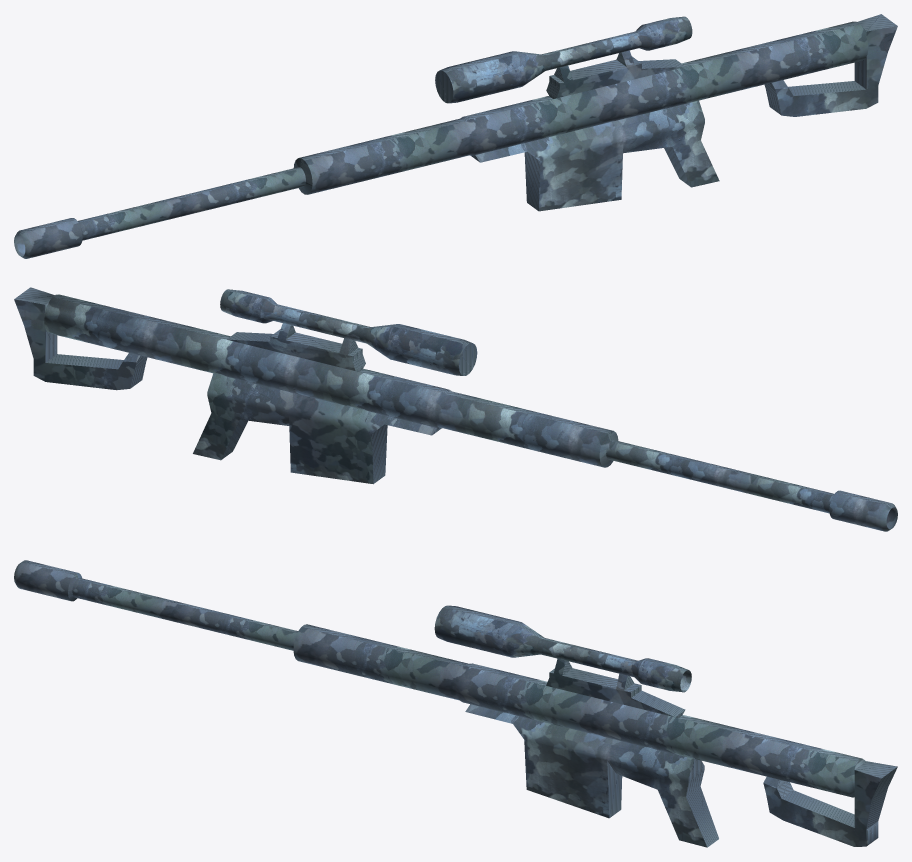
File: Rifle.FBX
3 renders of one model, top to bottom at view 1: azimuth 30°, elevation 25°; view 2: azimuth 150°, elevation 25°; view 3: azimuth 330°, elevation 25°, orthographic.
Visible parts, largest first — view 1: Cylinder001; view 2: Cylinder001; view 3: Cylinder001.
Part boxes in pixels (x1=…): Cylinder001: x1=14, y1=14, x2=897, y2=258; Cylinder001: x1=14, y1=287, x2=897, y2=531; Cylinder001: x1=14, y1=560, x2=897, y2=847.
Bounding box in the file's own units: 123 × 23.23 × 4.91.
Materials: 1 (1 with a texture image).
